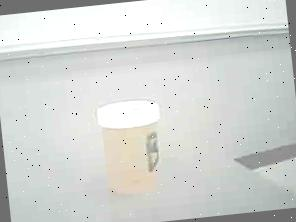Bottle B: (84, 83, 180, 208)
